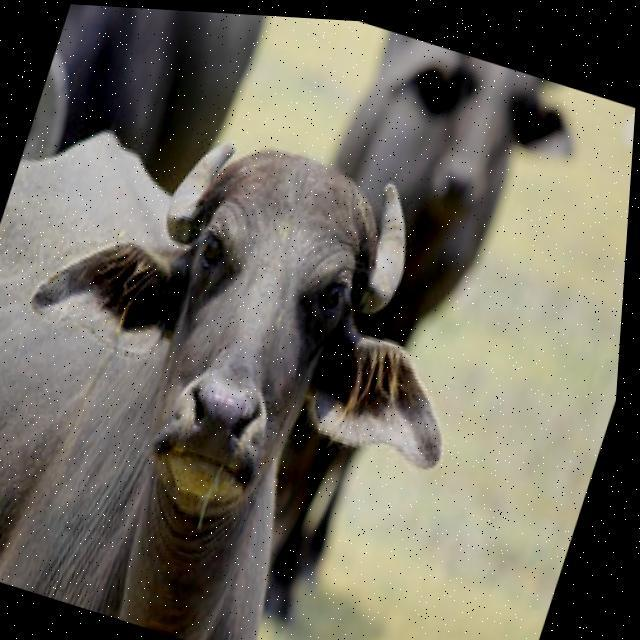Buffalo: (0, 70, 525, 640)
